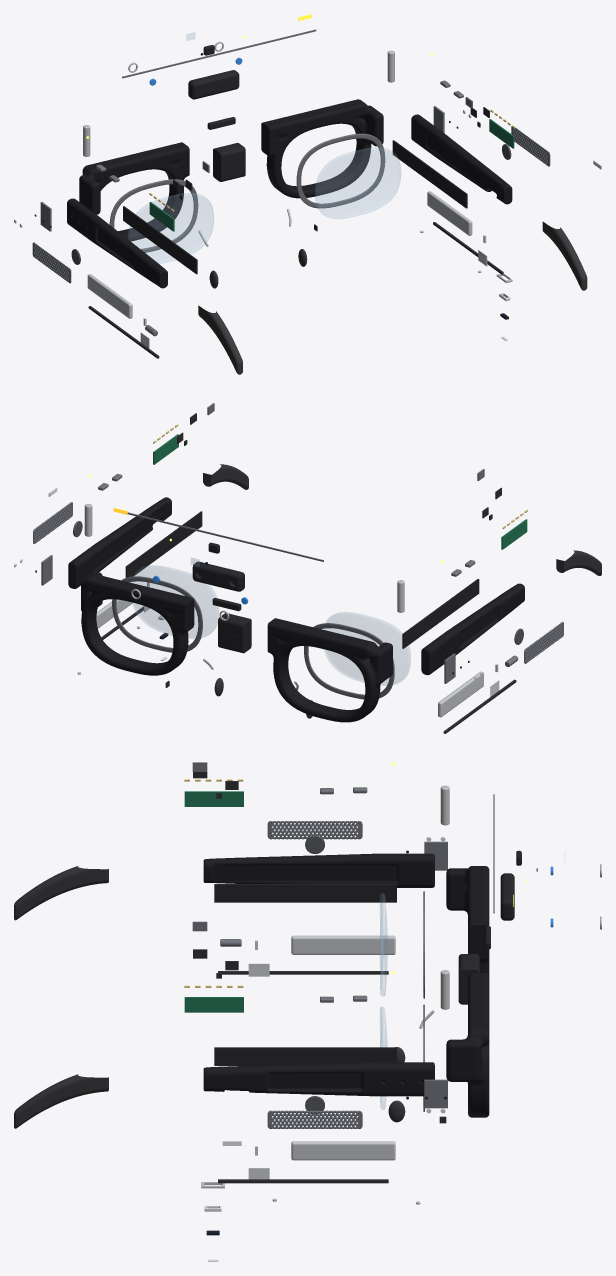
The model's file is SIGNLINK_Vision_Exploded.glb.
3 renders of one model, top to bottom at view 1: azimuth 30°, elevation 25°; view 2: azimuth 150°, elevation 25°; view 3: azimuth 270°, elevation 25°, orthographic. The views are drawn at different scales.
Visible parts, largest first — view 1: 004 | Right Polished Acetate Lens Rim, 006 | Right Clear Prescription Lens, 001 | Left Polished Acetate Lens Rim, 003 | Left Clear Prescription Lens, 026 | Left Gloss-Black Temple Outer Housing, 052 | Right Gloss-Black Temple Outer Housing, 005 | Right Lens Retaining Bezel, 054 | Right Inner Temple Service Cover, 028 | Left Inner Temple Service Cover, 007 | Integrated Sculpted Nose Bridge, 012 | Central Dual-Camera Bridge Pod, 055 | Right Soft-Touch Ear Tip (+7 smaller); view 2: 001 | Left Polished Acetate Lens Rim, 004 | Right Polished Acetate Lens Rim, 026 | Left Gloss-Black Temple Outer Housing, 052 | Right Gloss-Black Temple Outer Housing, 006 | Right Clear Prescription Lens, 003 | Left Clear Prescription Lens, 028 | Left Inner Temple Service Cover, 054 | Right Inner Temple Service Cover, 007 | Integrated Sculpted Nose Bridge, 005 | Right Lens Retaining Bezel, 012 | Central Dual-Camera Bridge Pod, 002 | Left Lens Retaining Bezel (+6 smaller); view 3: 052 | Right Gloss-Black Temple Outer Housing, 026 | Left Gloss-Black Temple Outer Housing, 004 | Right Polished Acetate Lens Rim, 028 | Left Inner Temple Service Cover, 054 | Right Inner Temple Service Cover, 001 | Left Polished Acetate Lens Rim, 067 | Right Rechargeable Lithium Battery Cell, 041 | Left Rechargeable Lithium Battery Cell, 055 | Right Soft-Touch Ear Tip, 029 | Left Soft-Touch Ear Tip, 071 | Right Acoustic Outlet Grille, 045 | Left Acoustic Outlet Grille (+7 smaller).
Part boxes in pixels (x1=…): 004 | Right Polished Acetate Lens Rim: x1=261, y1=99, x2=383, y2=198; 006 | Right Clear Prescription Lens: x1=315, y1=147, x2=400, y2=218; 001 | Left Polished Acetate Lens Rim: x1=79, y1=142, x2=189, y2=241; 003 | Left Clear Prescription Lens: x1=128, y1=193, x2=213, y2=263; 026 | Left Gloss-Black Temple Outer Housing: x1=67, y1=198, x2=167, y2=288; 052 | Right Gloss-Black Temple Outer Housing: x1=411, y1=114, x2=512, y2=204; 005 | Right Lens Retaining Bezel: x1=296, y1=133, x2=385, y2=208; 054 | Right Inner Temple Service Cover: x1=392, y1=140, x2=467, y2=208; 028 | Left Inner Temple Service Cover: x1=123, y1=206, x2=197, y2=274; 007 | Integrated Sculpted Nose Bridge: x1=213, y1=143, x2=245, y2=181; 012 | Central Dual-Camera Bridge Pod: x1=188, y1=70, x2=239, y2=99; 055 | Right Soft-Touch Ear Tip: x1=542, y1=221, x2=587, y2=290; 001 | Left Polished Acetate Lens Rim: x1=267, y1=618, x2=392, y2=722; 004 | Right Polished Acetate Lens Rim: x1=81, y1=571, x2=194, y2=675; 026 | Left Gloss-Black Temple Outer Housing: x1=421, y1=583, x2=524, y2=675; 052 | Right Gloss-Black Temple Outer Housing: x1=68, y1=497, x2=171, y2=588; 006 | Right Clear Prescription Lens: x1=131, y1=565, x2=218, y2=638; 003 | Left Clear Prescription Lens: x1=323, y1=612, x2=410, y2=685; 028 | Left Inner Temple Service Cover: x1=402, y1=579, x2=479, y2=648; 054 | Right Inner Temple Service Cover: x1=125, y1=511, x2=202, y2=577; 007 | Integrated Sculpted Nose Bridge: x1=218, y1=613, x2=251, y2=653; 005 | Right Lens Retaining Bezel: x1=112, y1=576, x2=202, y2=652; 012 | Central Dual-Camera Bridge Pod: x1=192, y1=561, x2=244, y2=591; 002 | Left Lens Retaining Bezel: x1=304, y1=623, x2=394, y2=699; 052 | Right Gloss-Black Temple Outer Housing: x1=203, y1=1062, x2=434, y2=1096; 026 | Left Gloss-Black Temple Outer Housing: x1=203, y1=853, x2=434, y2=887; 004 | Right Polished Acetate Lens Rim: x1=446, y1=972, x2=489, y2=1117; 028 | Left Inner Temple Service Cover: x1=214, y1=884, x2=396, y2=902; 054 | Right Inner Temple Service Cover: x1=214, y1=1047, x2=396, y2=1065; 001 | Left Polished Acetate Lens Rim: x1=446, y1=866, x2=489, y2=975; 067 | Right Rechargeable Lithium Battery Cell: x1=291, y1=1141, x2=395, y2=1160; 041 | Left Rechargeable Lithium Battery Cell: x1=291, y1=935, x2=395, y2=954; 055 | Right Soft-Touch Ear Tip: x1=14, y1=1074, x2=108, y2=1128; 029 | Left Soft-Touch Ear Tip: x1=14, y1=866, x2=108, y2=920; 071 | Right Acoustic Outlet Grille: x1=267, y1=1110, x2=362, y2=1128; 045 | Left Acoustic Outlet Grille: x1=267, y1=821, x2=362, y2=839.
Bounding box in the file's own units: 0.31 × 0.1465 × 0.248.
